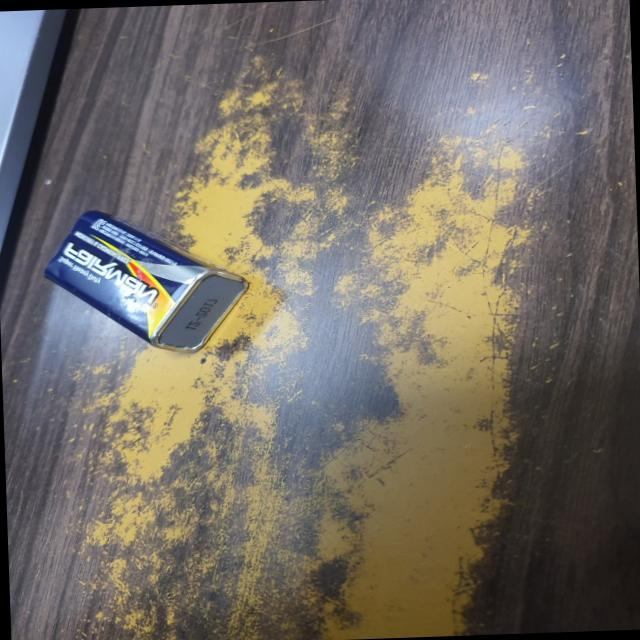battery-etc-etc: (40, 202, 252, 365)
